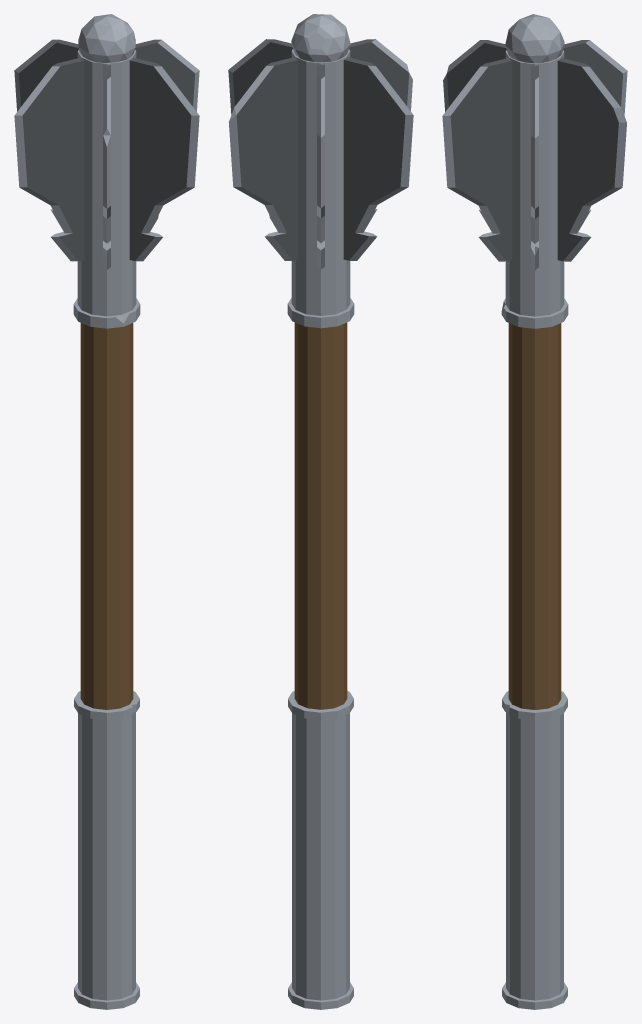
Rendered from Shestoper.fbx.
3 renders of one model, left to right at view 1: azimuth 30°, elevation 25°; view 2: azimuth 150°, elevation 25°; view 3: azimuth 270°, elevation 25°, orthographic.
Parts seen in each view (by area): view 1: Mace 1; view 2: Mace 1; view 3: Mace 1.
Boxes of the visible parts, x1,y1,x2,y2 form: Mace 1: (14,14,199,1009); Mace 1: (228,14,413,1009); Mace 1: (442,14,627,1009).
Bounding box in the file's own units: 0.1826 × 0.923 × 0.1582.
